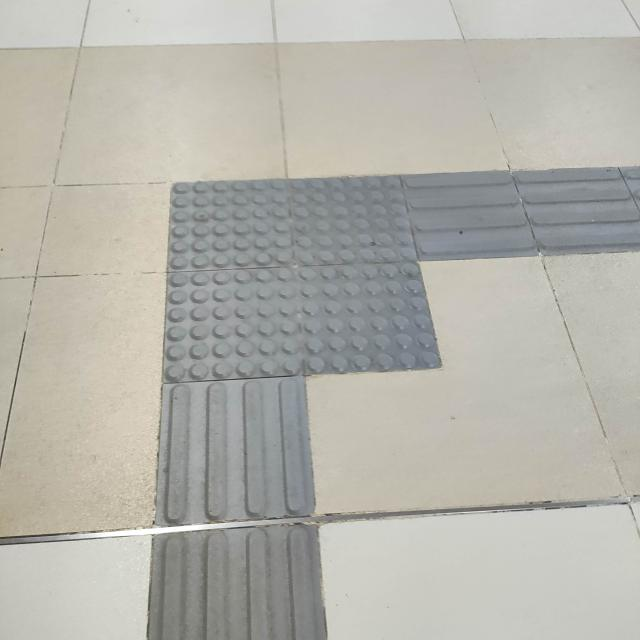kanan: (125, 121, 600, 420)
